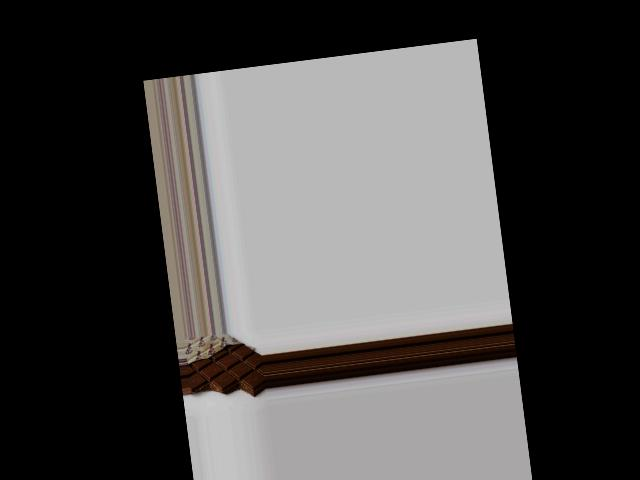chocolate: (183, 330, 264, 398)
